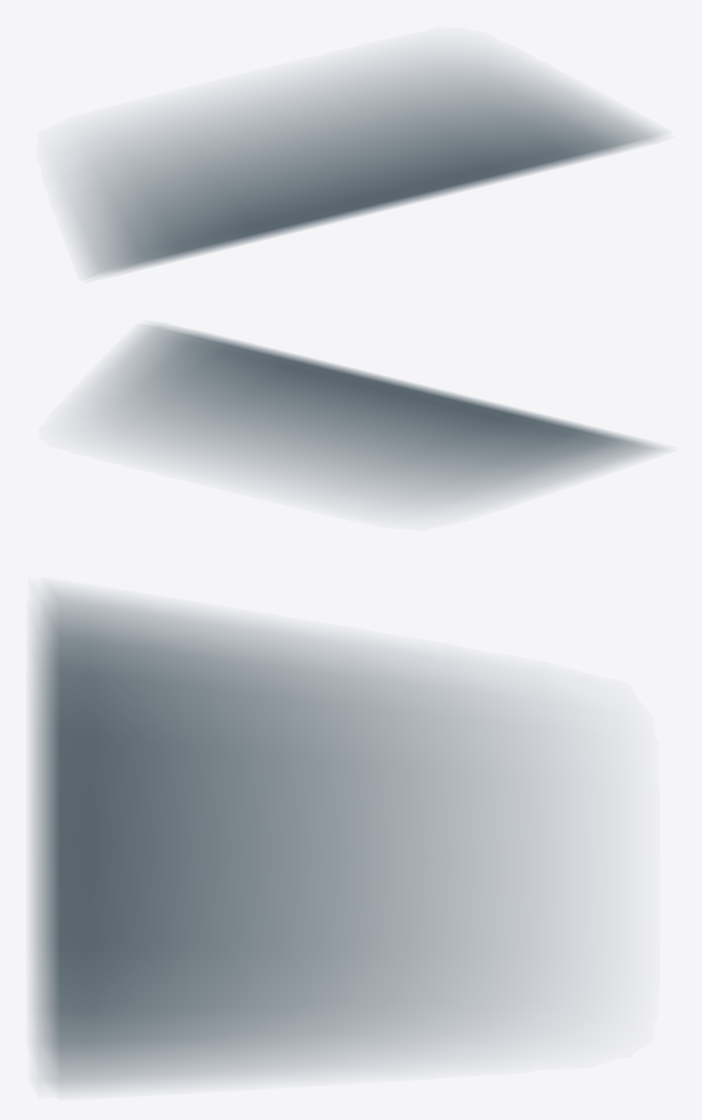
Rendered from wsc-kit-006-shadow-pool-decal.glb.
3 views of the same model, one above another, from view 1: azimuth 30°, elevation 25°; view 2: azimuth 150°, elevation 25°; view 3: azimuth 270°, elevation 25° (orthographic). The views are drawn at different scales.
Parts seen in each view (by area): view 1: ShadowPool_WallFloor; view 2: ShadowPool_WallFloor; view 3: ShadowPool_WallFloor.
Boxes of the visible parts, box(x1,y1,x2,y2) form: ShadowPool_WallFloor: box(65, 53, 660, 275); ShadowPool_WallFloor: box(82, 325, 663, 510); ShadowPool_WallFloor: box(32, 588, 584, 1090).
Size of the model in its own units: 6 by 0 by 3.1.
